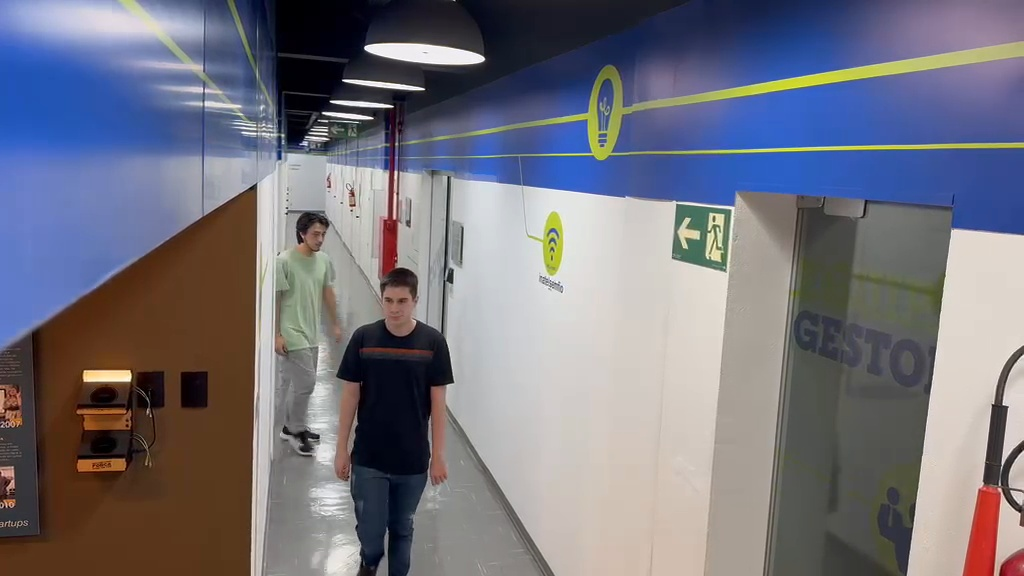person: (332, 267, 455, 573), (274, 210, 339, 457)
